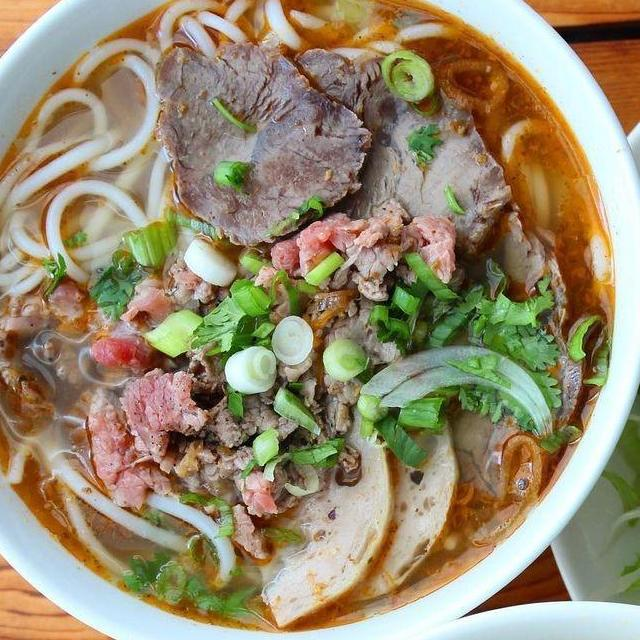bun: (0, 29, 187, 302), (0, 416, 246, 603), (147, 0, 475, 82)
bun bo: (0, 0, 593, 624)
thit bo: (147, 35, 377, 254), (434, 196, 591, 504), (182, 281, 415, 458), (333, 70, 519, 270), (253, 196, 465, 328), (67, 362, 214, 516), (76, 248, 224, 382), (0, 278, 110, 429), (282, 44, 387, 158)
